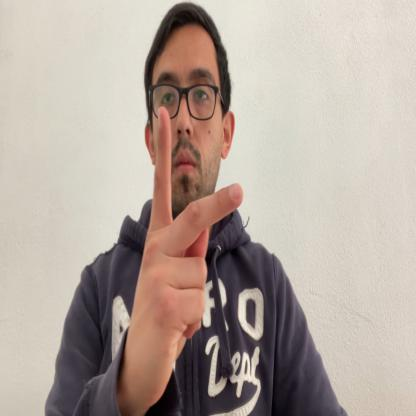P: (128, 105, 242, 405)
